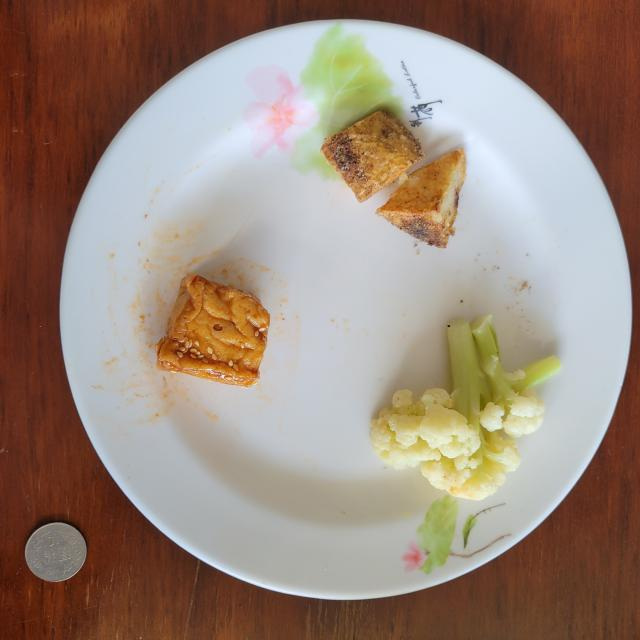coin: (25, 522, 86, 581)
creamy tofu: (155, 274, 270, 386)
fried potato: (321, 110, 466, 248)
